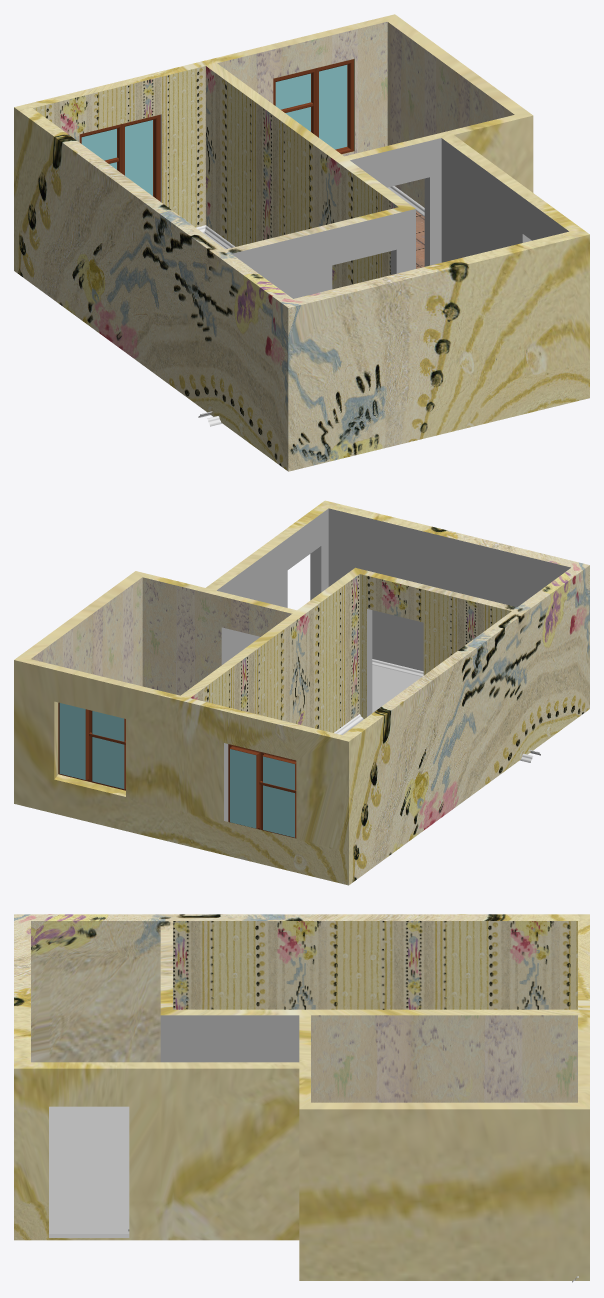
Rendered from room.fbx.
The picture shows the model from 3 angles, top to bottom: view 1: azimuth 30°, elevation 25°; view 2: azimuth 150°, elevation 25°; view 3: azimuth 270°, elevation 25°; orthographic projection. The views are drawn at different scales.
Visible parts, largest first — view 1: Plane.001; view 2: Plane.001; view 3: Plane.001.
Part boxes in pixels (bbox=[...]): Plane.001: bbox=[14, 14, 589, 471]; Plane.001: bbox=[14, 500, 589, 885]; Plane.001: bbox=[14, 914, 589, 1282].
Bounding box in the file's own units: 158 × 66.32 × 191.
